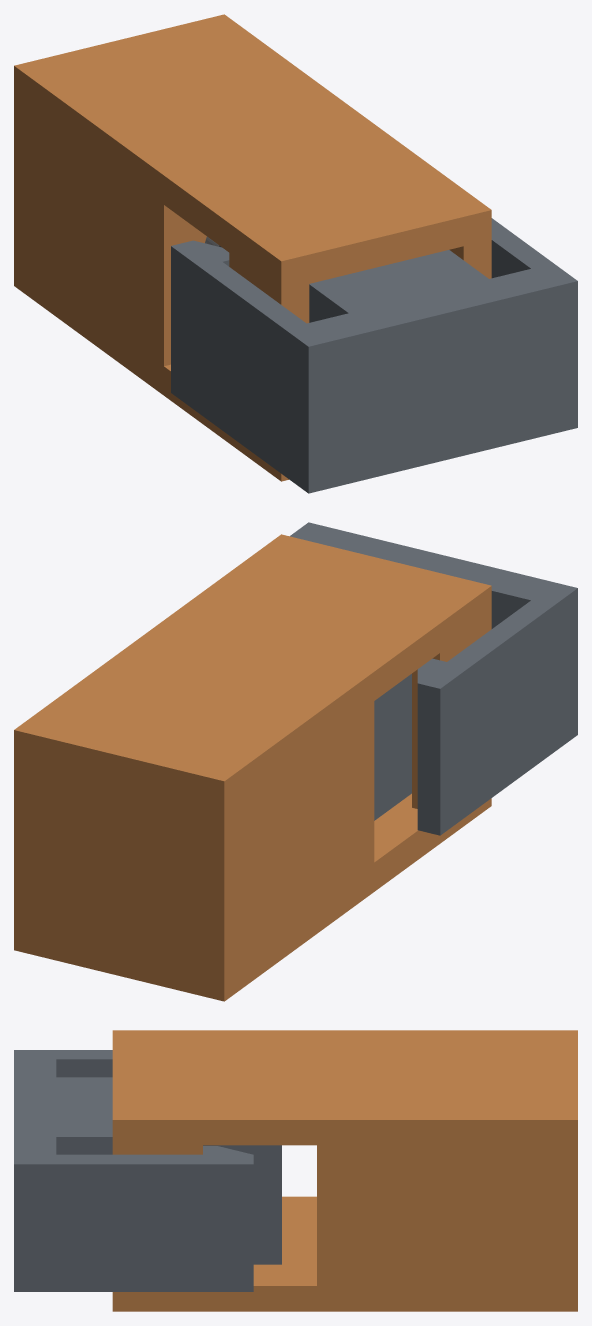
The picture shows the model from 3 angles, top to bottom: view 1: azimuth 30°, elevation 25°; view 2: azimuth 150°, elevation 25°; view 3: azimuth 270°, elevation 25°; orthographic projection. The views are drawn at different scales.
Parts seen in each view (by area): view 1: boitier, bouton; view 2: boitier, bouton; view 3: boitier, bouton.
Part boxes in pixels (bbox=[...]): boitier: bbox=[14, 14, 491, 481]; bouton: bbox=[171, 218, 577, 493]; boitier: bbox=[14, 534, 491, 1001]; bouton: bbox=[290, 522, 577, 835]; boitier: bbox=[112, 1030, 577, 1311]; bouton: bbox=[14, 1050, 281, 1291].
Size of the model in its own units: 19.2 by 15 by 40.
